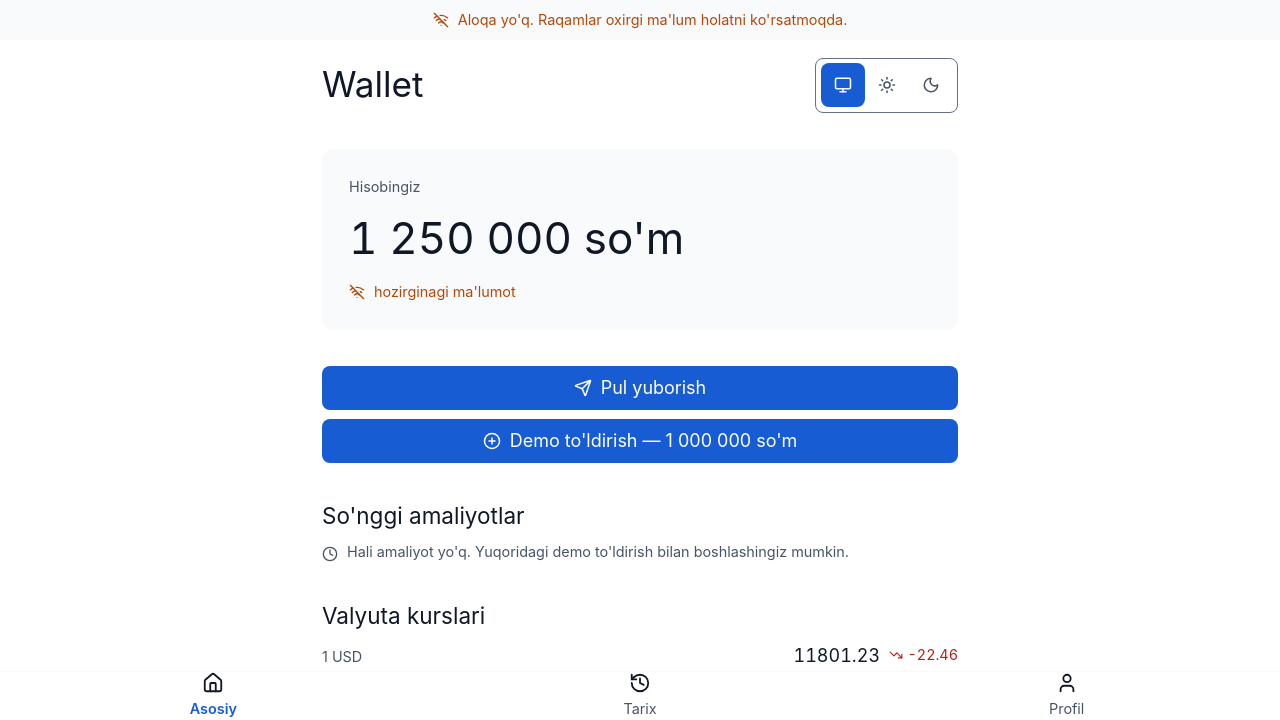
Test: a queued request the server refuses › is never sent again, and the reason is on screen
The image size is (1280, 720).
Check: the heading "Wallet" is shown, box [322,58,424,110]
Click the button "Demo to'ldirish — 1 000 000 so'm" at (640, 441), box [322,419,958,463]
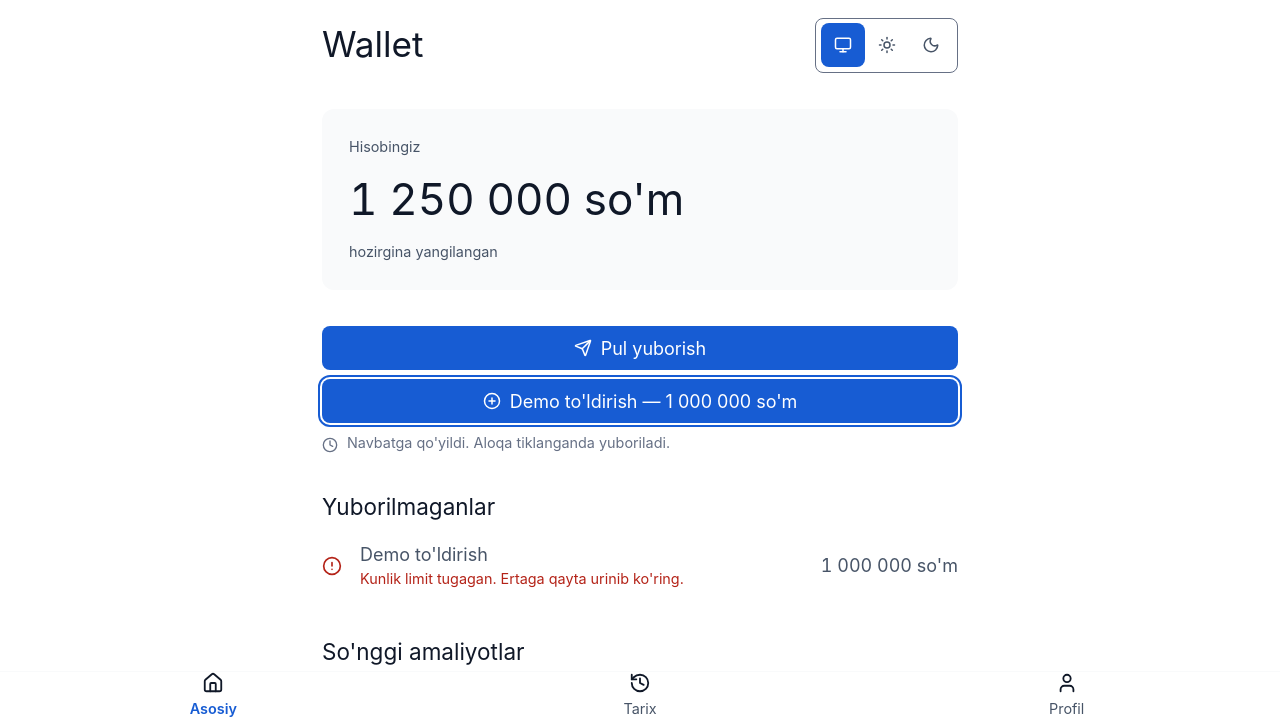
Check: the text "Kunlik limit tugagan. Ertaga qayta urinib ko'ring." is shown, box [360,570,684,587]
